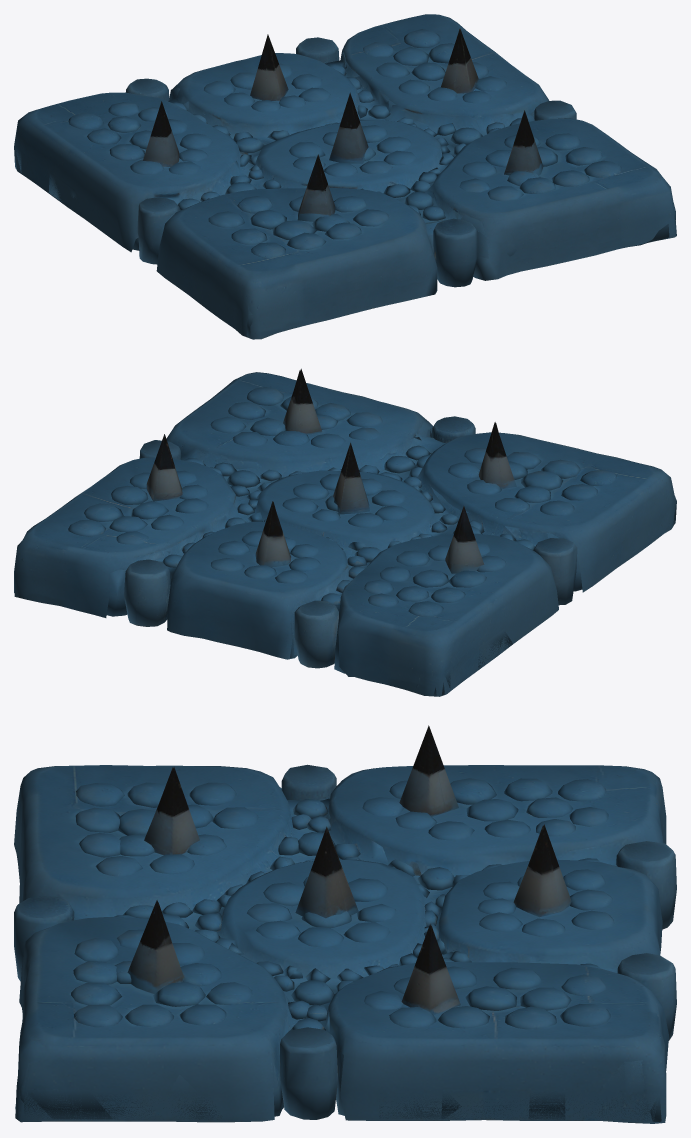
Rendered from spike_armed_refined.glb.
3 renders of one model, top to bottom at view 1: azimuth 30°, elevation 25°; view 2: azimuth 150°, elevation 25°; view 3: azimuth 270°, elevation 25°, orthographic. The views are drawn at different scales.
Size of the model in its own units: 1 by 0.2588 by 0.9863.
Materials: 1 (1 with a texture image).
